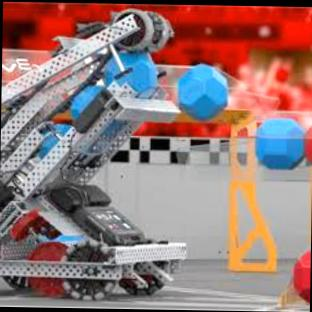Robot: (0, 8, 184, 298)
V5_BLUE: (70, 50, 157, 118), (177, 64, 226, 118), (256, 118, 303, 167), (36, 130, 57, 156), (55, 231, 82, 242), (53, 121, 72, 135)
V5_RED: (293, 249, 309, 301), (304, 125, 311, 165)
blueingoal: (178, 63, 225, 119), (256, 118, 301, 166)
redingoal: (304, 124, 311, 161)
